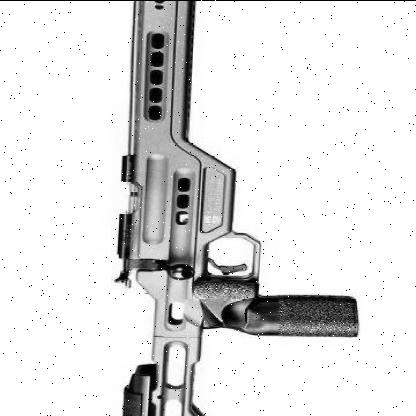rifle: (94, 17, 369, 413)
